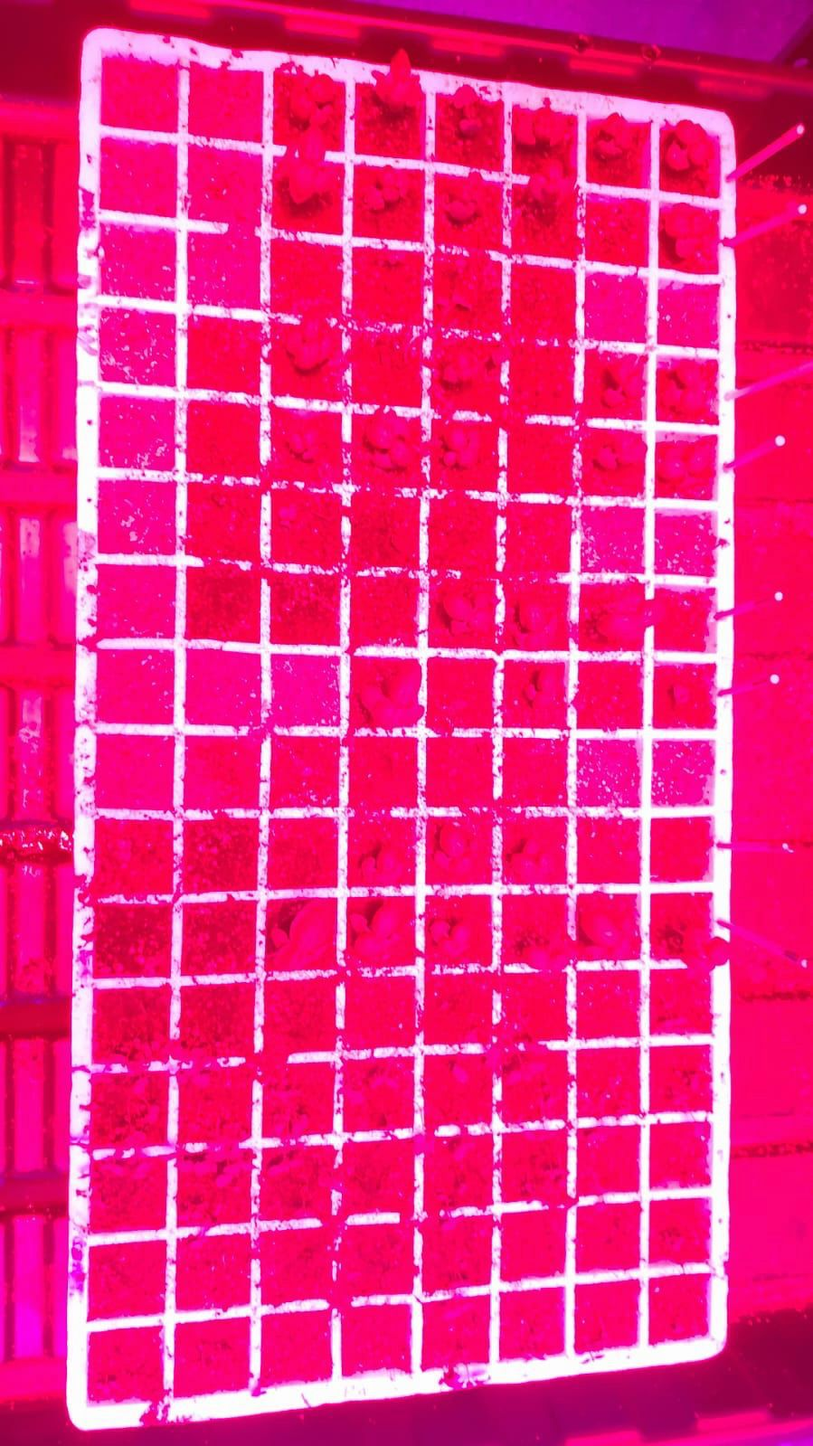Germinacao: (525, 570, 735, 639), (405, 139, 522, 254), (285, 496, 402, 611), (405, 496, 522, 611), (405, 615, 522, 730), (43, 733, 160, 848), (165, 376, 280, 492), (526, 733, 642, 848), (407, 852, 522, 968), (165, 615, 280, 730), (165, 1209, 280, 1324), (648, 139, 741, 254), (648, 496, 739, 611), (199, 1176, 326, 1257), (648, 733, 737, 848), (72, 139, 159, 254), (648, 1091, 735, 1205), (94, 1366, 227, 1437), (269, 360, 402, 430), (65, 496, 148, 607), (62, 1232, 159, 1323), (405, 1329, 522, 1399), (264, 1308, 341, 1413), (181, 217, 267, 311), (100, 792, 237, 851), (330, 1048, 415, 1141), (255, 969, 336, 1066), (252, 1056, 336, 1144), (528, 1091, 601, 1191), (248, 647, 306, 770), (413, 1049, 492, 1138), (383, 208, 476, 283), (573, 956, 648, 1049), (412, 1131, 493, 1215), (258, 888, 337, 973), (572, 1121, 650, 1205), (437, 792, 496, 903), (571, 1197, 646, 1284), (569, 495, 649, 574), (571, 1045, 648, 1125), (573, 881, 648, 962), (175, 289, 248, 372), (648, 1056, 732, 1125), (423, 732, 494, 813), (287, 785, 368, 856), (581, 339, 735, 376), (191, 854, 272, 924), (437, 1289, 493, 1386), (248, 598, 307, 684), (437, 1209, 494, 1298), (580, 260, 640, 343), (437, 264, 505, 333), (71, 615, 111, 730), (392, 374, 447, 456), (141, 512, 199, 589), (437, 967, 490, 1051), (585, 182, 639, 264), (66, 1101, 98, 1238), (528, 854, 601, 914), (371, 702, 441, 764), (280, 1116, 373, 1162), (381, 947, 434, 1026), (477, 461, 534, 533), (143, 25, 213, 83), (466, 1092, 519, 1167), (288, 648, 345, 717), (71, 376, 108, 480), (338, 1304, 375, 1406), (79, 303, 133, 371), (555, 947, 601, 1026), (616, 858, 679, 909), (675, 1320, 737, 1370), (695, 1221, 736, 1296), (245, 1122, 289, 1190), (50, 821, 105, 874), (704, 360, 745, 430), (213, 471, 299, 504), (153, 691, 197, 750), (250, 149, 277, 241), (232, 1366, 298, 1403), (677, 855, 723, 905), (565, 636, 640, 666), (329, 459, 364, 513), (252, 772, 277, 846), (704, 888, 732, 954), (557, 1024, 597, 1068), (453, 75, 515, 103), (513, 411, 593, 431), (704, 676, 741, 718), (335, 143, 374, 178), (638, 103, 692, 127), (334, 1208, 388, 1231), (378, 1366, 436, 1385), (118, 369, 146, 405), (510, 90, 555, 112), (337, 741, 352, 802), (336, 314, 361, 350), (113, 24, 137, 61), (305, 57, 349, 76), (84, 61, 107, 89), (503, 99, 522, 132), (340, 183, 355, 223), (708, 310, 736, 330), (170, 752, 185, 785), (134, 892, 171, 905), (571, 440, 581, 486), (135, 129, 159, 148), (449, 409, 481, 423), (176, 497, 192, 525), (173, 894, 187, 925), (285, 52, 307, 71), (361, 964, 388, 979), (438, 79, 470, 90), (564, 1080, 580, 1102), (216, 52, 239, 67), (165, 1059, 179, 1082), (117, 977, 141, 988)
